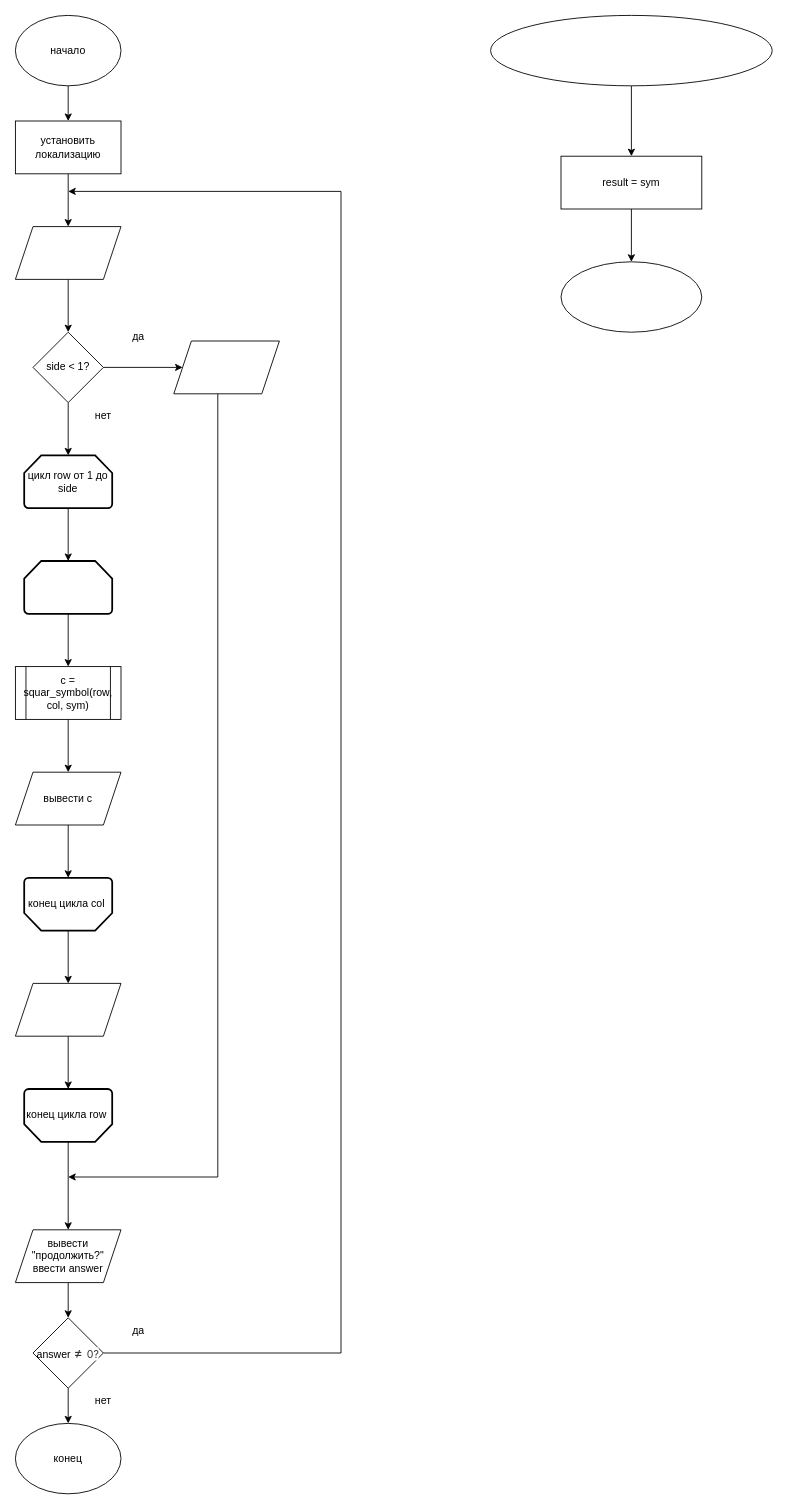
Some shapes in this 788 by 1509 pixel diagram are drawn without their labels. Here are the shapes that lost their labels. From the top down, the centre of each, then its label:
the point at 631,50: вход в square_symbol(row, col, sym)
the point at 68,252: ввести sem, side
the point at 631,296: возврат result
the point at 226,367: вывести "ошибка"
the point at 68,587: цикл col от 1 до side
the point at 68,1009: перевод строки
